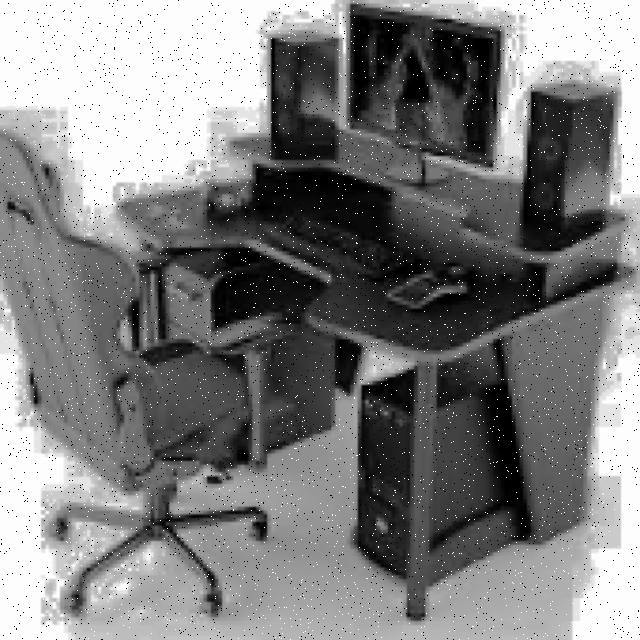book: (0, 126, 290, 617)
table: (117, 126, 636, 617)
